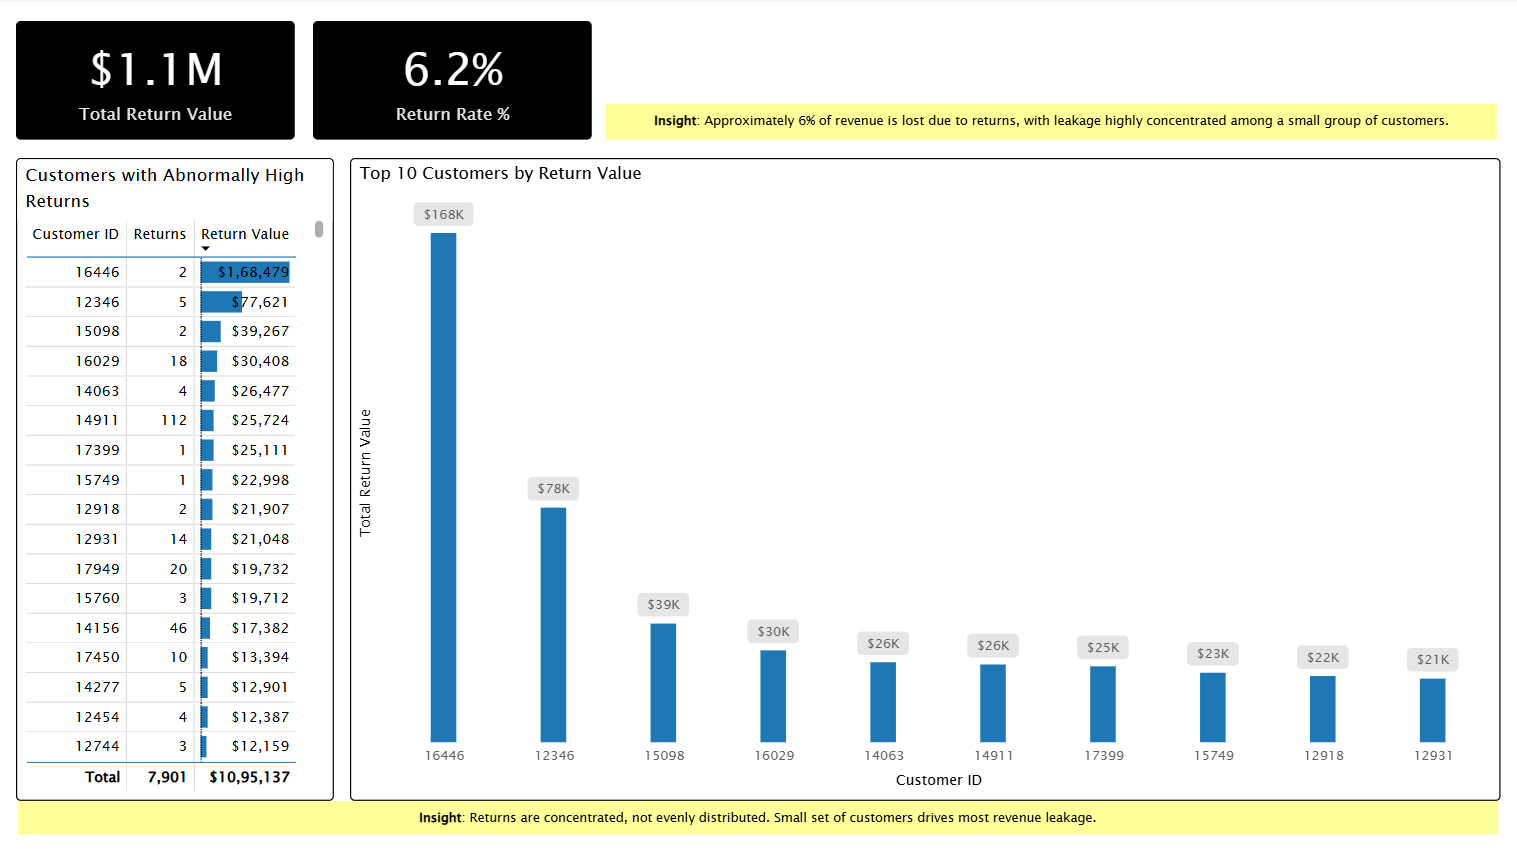

The page's visual inventory and layout, read from the dashboard file:
{"tool":"powerbi","page":{"name":"Revenue Leakage (Returns)","canvas":[1280,720],"ordinal":2},"visuals":[{"type":"card","fields":{"Values":["Sum(bi_returns_overview.total_return_value)"]},"box":[14.6,19.2,235.4,100],"z":0},{"type":"card","fields":{"Values":["Sum(bi_returns_overview.return_rate_pct)"]},"box":[264.6,19.5,235.4,100.2],"z":1000},{"type":"tableEx","title":"Customers with Abnormally High Returns","fields":{"Values":["bi_high_return_customers.customer_id","Sum(bi_high_return_customers.total_returns)","Sum(bi_high_return_customers.total_return_value)"]},"box":[14.7,134.6,268.2,542.3],"z":2000},{"type":"clusteredColumnChart","title":"Top 10 Customers by Return Value","fields":{"Category":["bi_high_return_customers.customer_id"],"Y":["Sum(bi_high_return_customers.total_return_value)"]},"box":[295.8,134.9,970.2,541.6],"z":3000},{"type":"textbox","box":[15.7,676.8,1247.6,28.5],"z":4000},{"type":"textbox","box":[511.8,89.4,751.5,30.5],"z":5000}]}

Visuals, with their boxes in screenshot pixels (x1, y1, x2, y2), scaled from the page's 1280x720 canvas onto the 1517x852 screenshot:
card - Sum(bi_returns_overview.total_return_value): <region>17, 23, 296, 141</region>
card - Sum(bi_returns_overview.return_rate_pct): <region>314, 23, 593, 142</region>
"Customers with Abnormally High Returns" tableEx: <region>17, 159, 335, 801</region>
"Top 10 Customers by Return Value" clusteredColumnChart: <region>351, 160, 1500, 801</region>
textbox: <region>19, 801, 1497, 835</region>
textbox: <region>607, 106, 1497, 142</region>
